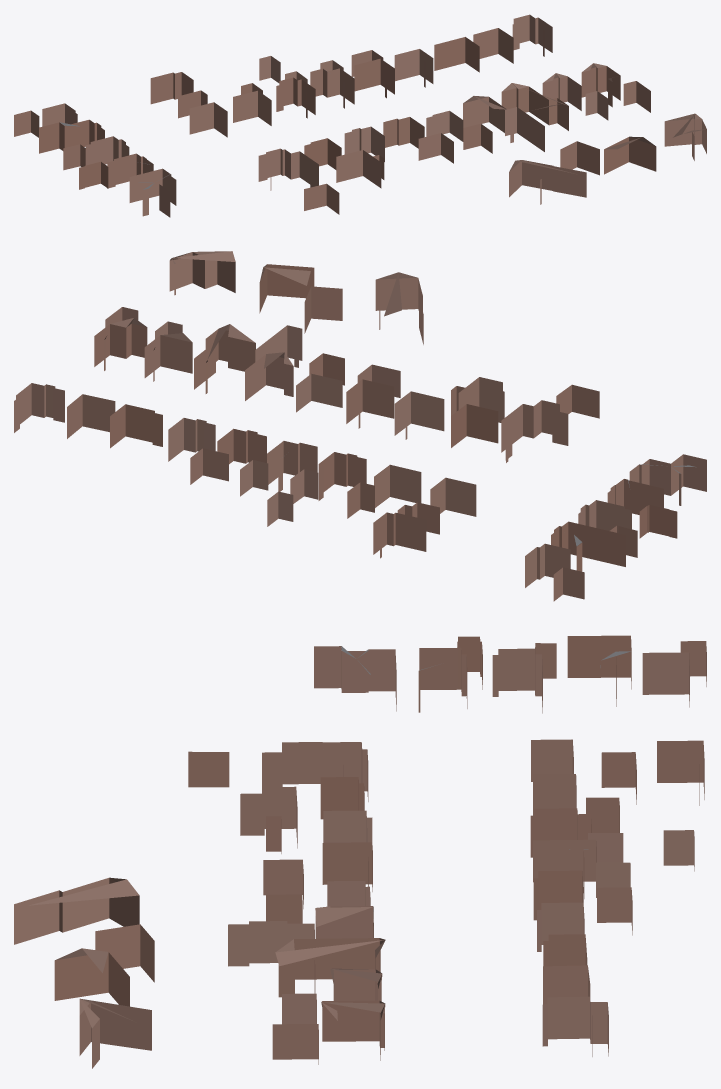
File: c_1646_17831_buildings_residential.glb
The picture shows the model from 3 angles, top to bottom: view 1: azimuth 30°, elevation 25°; view 2: azimuth 150°, elevation 25°; view 3: azimuth 270°, elevation 25°; orthographic projection. The views are drawn at different scales.
Parts seen in each view (by area): view 1: geometry_0; view 2: geometry_0; view 3: geometry_0.
Part boxes in pixels (x1,y1,x2,y2): geometry_0: [14, 14, 706, 217]; geometry_0: [14, 251, 706, 601]; geometry_0: [14, 635, 706, 1068].
Size of the model in its own units: 195 by 10.94 by 142.
